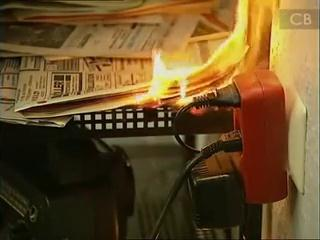Fire: (147, 2, 257, 106)
